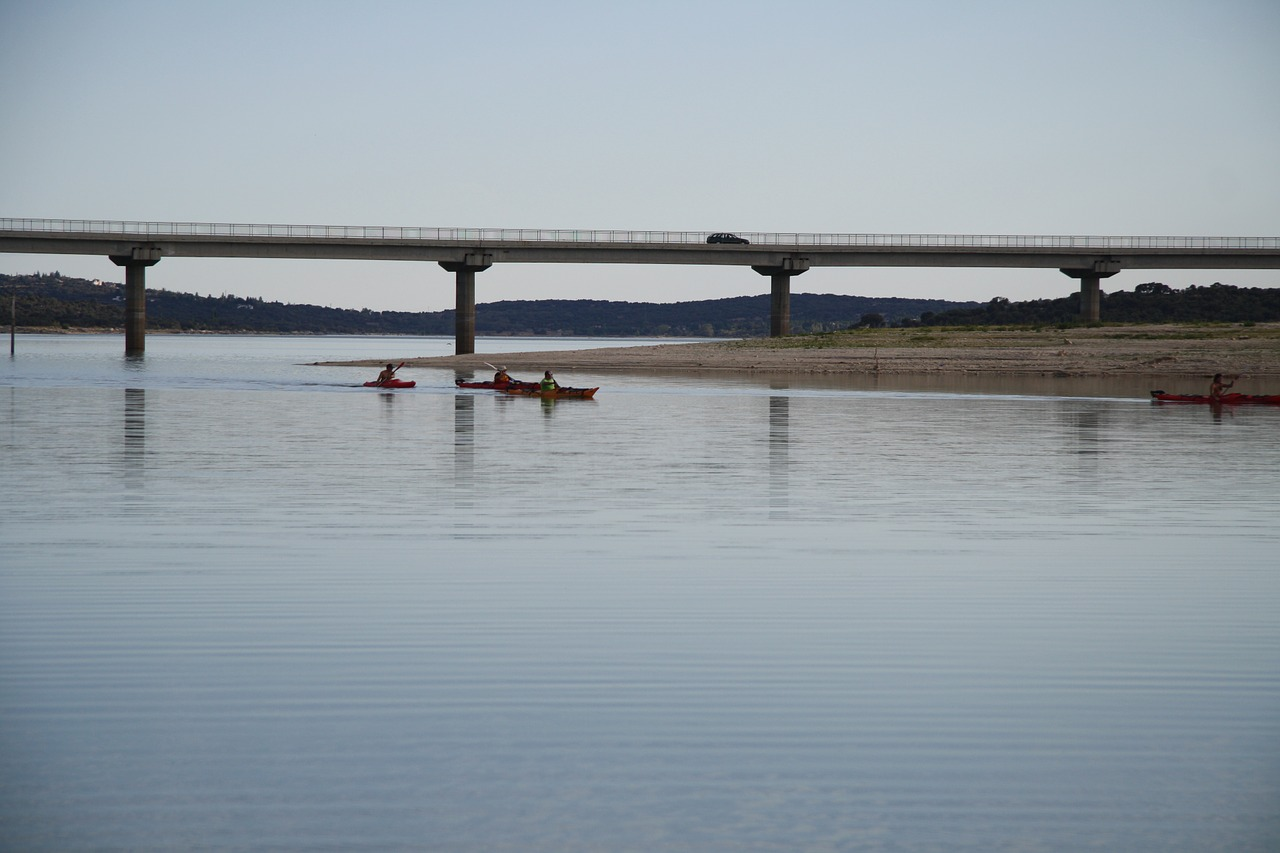kayak: (1148, 390, 1280, 405), (501, 382, 600, 401), (360, 379, 420, 389)
